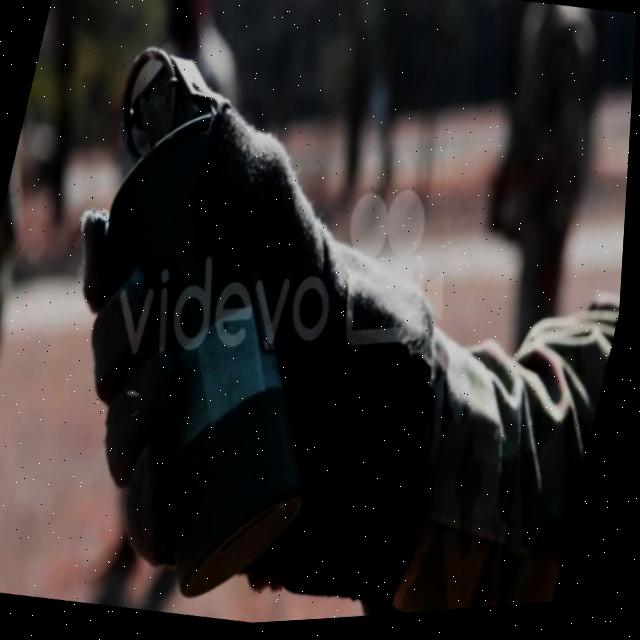grenade: (0, 0, 429, 640)
